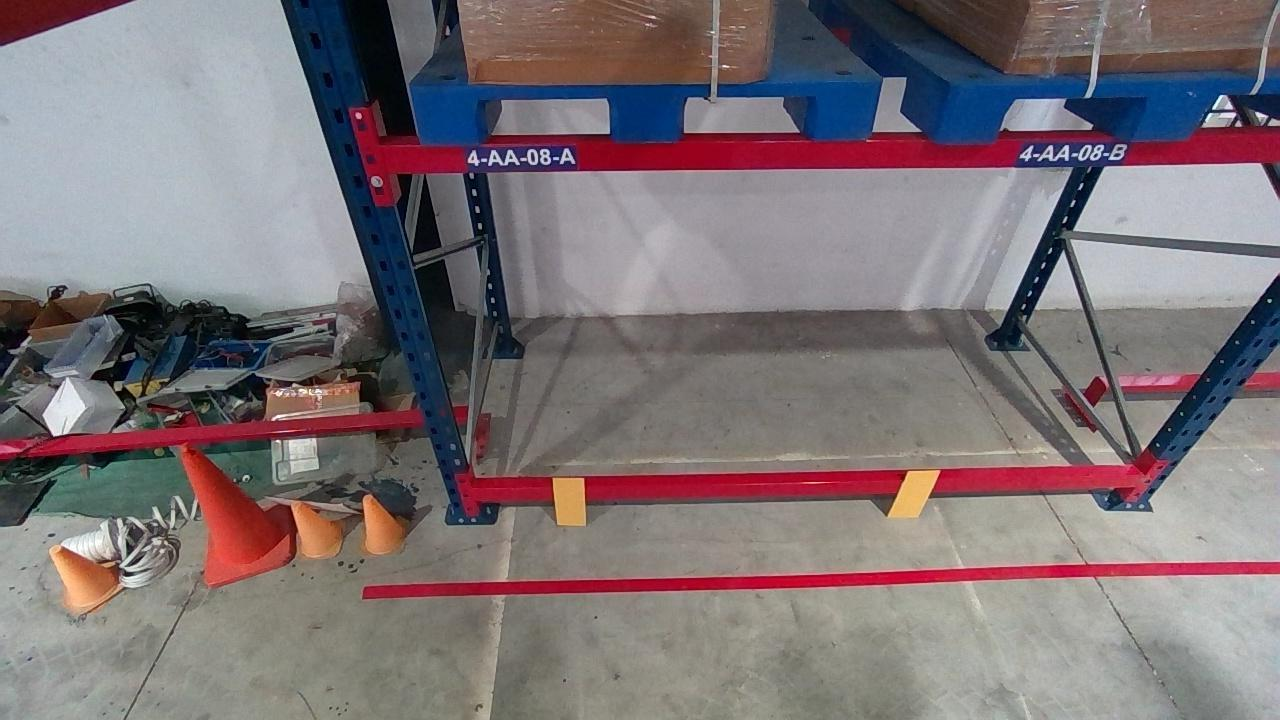h_rack: (379, 136, 1279, 169), (475, 472, 1144, 501)
orange_strip: (886, 469, 941, 518), (552, 478, 585, 525)
red_line: (363, 558, 1279, 597)
small_pallet: (406, 82, 884, 140), (939, 77, 1279, 138)
